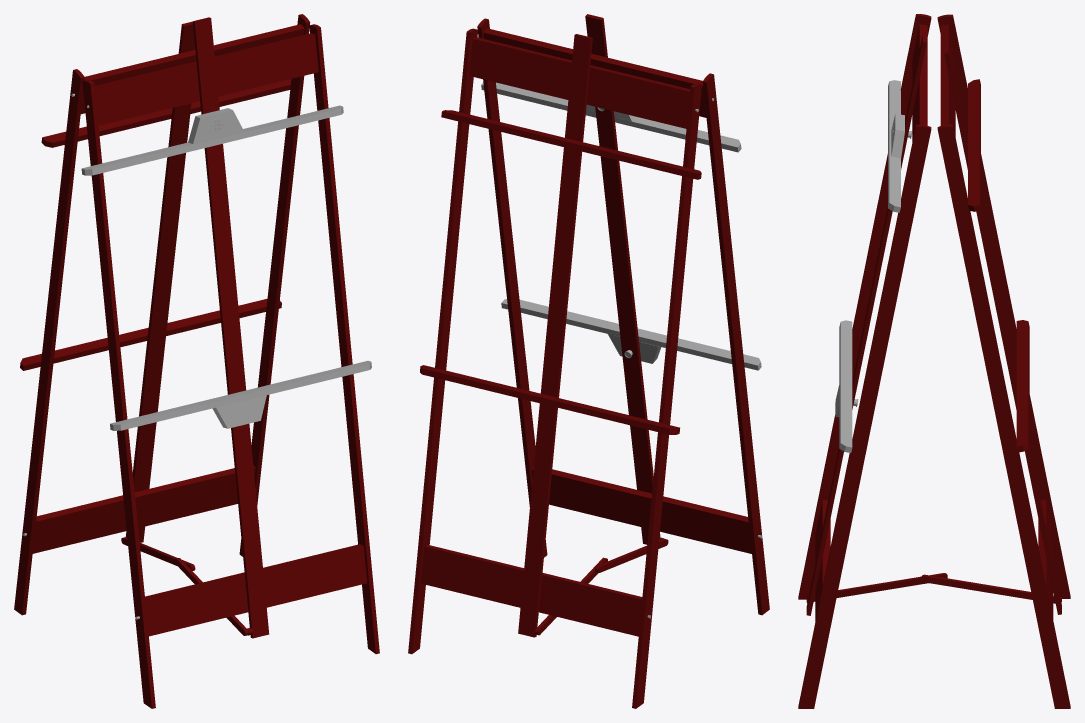
Rendered from Cavalete_Gordo_MESH.fbx.
3 views of the same model, side by side, from view 1: azimuth 30°, elevation 25°; view 2: azimuth 150°, elevation 25°; view 3: azimuth 270°, elevation 25° (orthographic).
Parts seen in each view (by area): view 1: Cavalete, Manipulador_Cavalete; view 2: Cavalete, Manipulador_Cavalete; view 3: Cavalete, Manipulador_Cavalete.
Boxes of the visible parts, box(x1,y1,x2,y2) form: Cavalete: box(14, 14, 379, 708); Manipulador_Cavalete: box(81, 105, 371, 430); Cavalete: box(408, 14, 769, 708); Manipulador_Cavalete: box(481, 82, 761, 370); Cavalete: box(798, 14, 1070, 708); Manipulador_Cavalete: box(835, 80, 904, 452).
Bounding box in the file's own units: 6.28 × 14.07 × 5.65.
